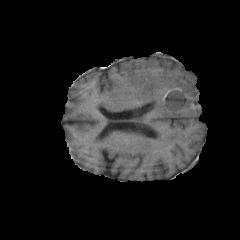glioma: (96, 59, 201, 142)
